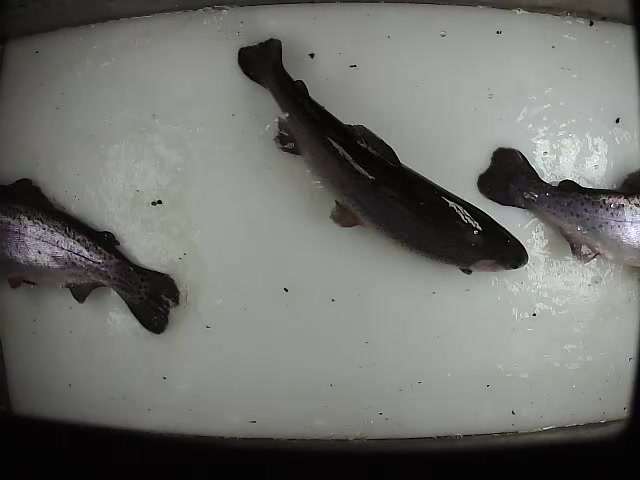fish: (233, 35, 530, 275), (1, 174, 183, 334), (473, 142, 640, 271)
